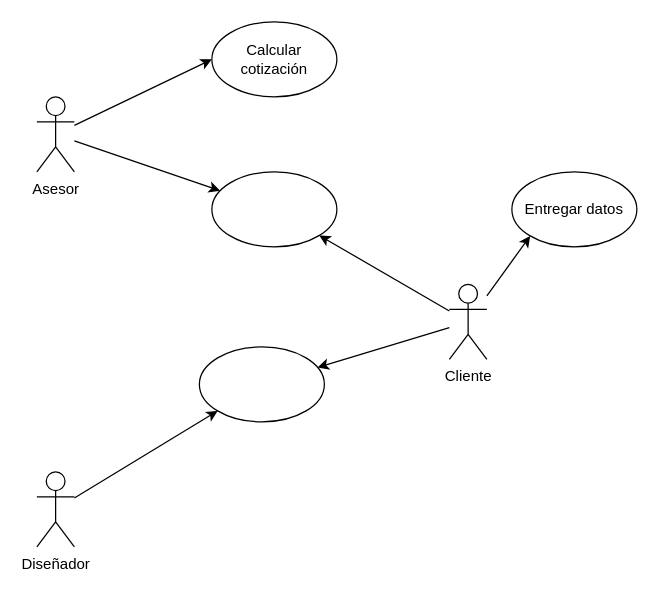
This 659x595 diagram has some shape labels left out. The shapes that lost their labels are listed below. From the top down, each one's centre as x and y in pixels, then its label:
At [274,209]: "Solicitar diseño".
At [261,384]: "Solicitar datos".
